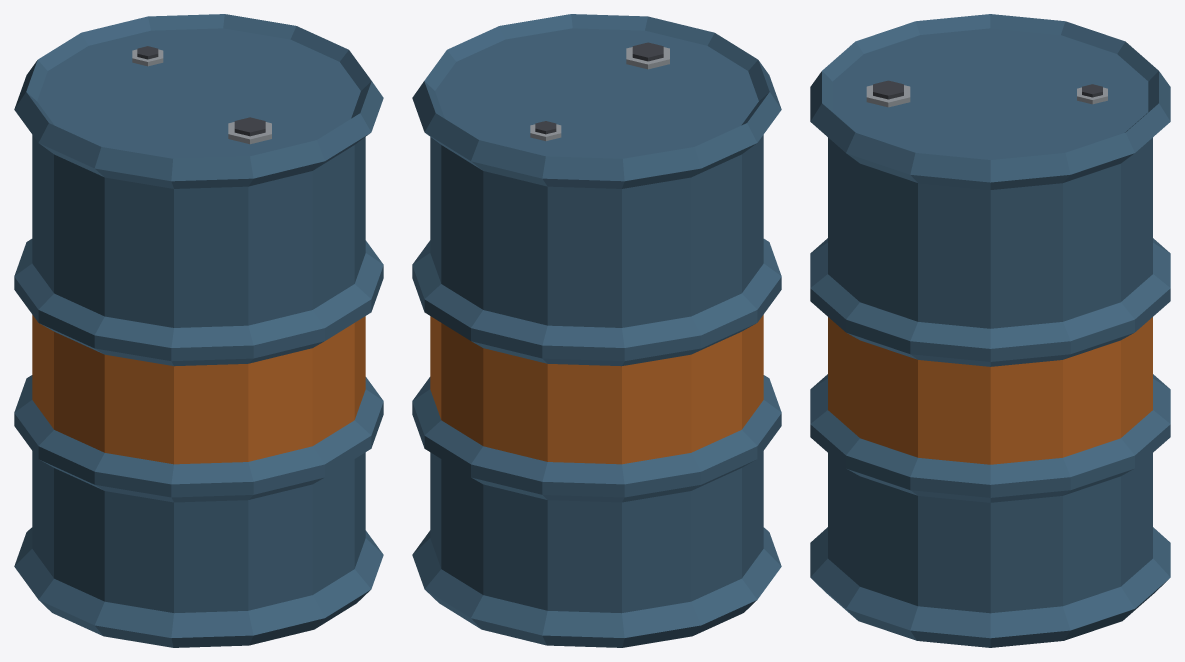
Rendered from oil-drum-386c30.glb.
3 renders of one model, left to right at view 1: azimuth 30°, elevation 25°; view 2: azimuth 150°, elevation 25°; view 3: azimuth 270°, elevation 25°, orthographic.
Visible parts, largest first — view 1: drum; view 2: drum; view 3: drum.
Part boxes in pixels (x1,y1,x2,y2): drum: (14,14,383,647); drum: (412,14,781,647); drum: (810,14,1170,647).
Size of the model in its own units: 0.616 by 0.9 by 0.6006.
